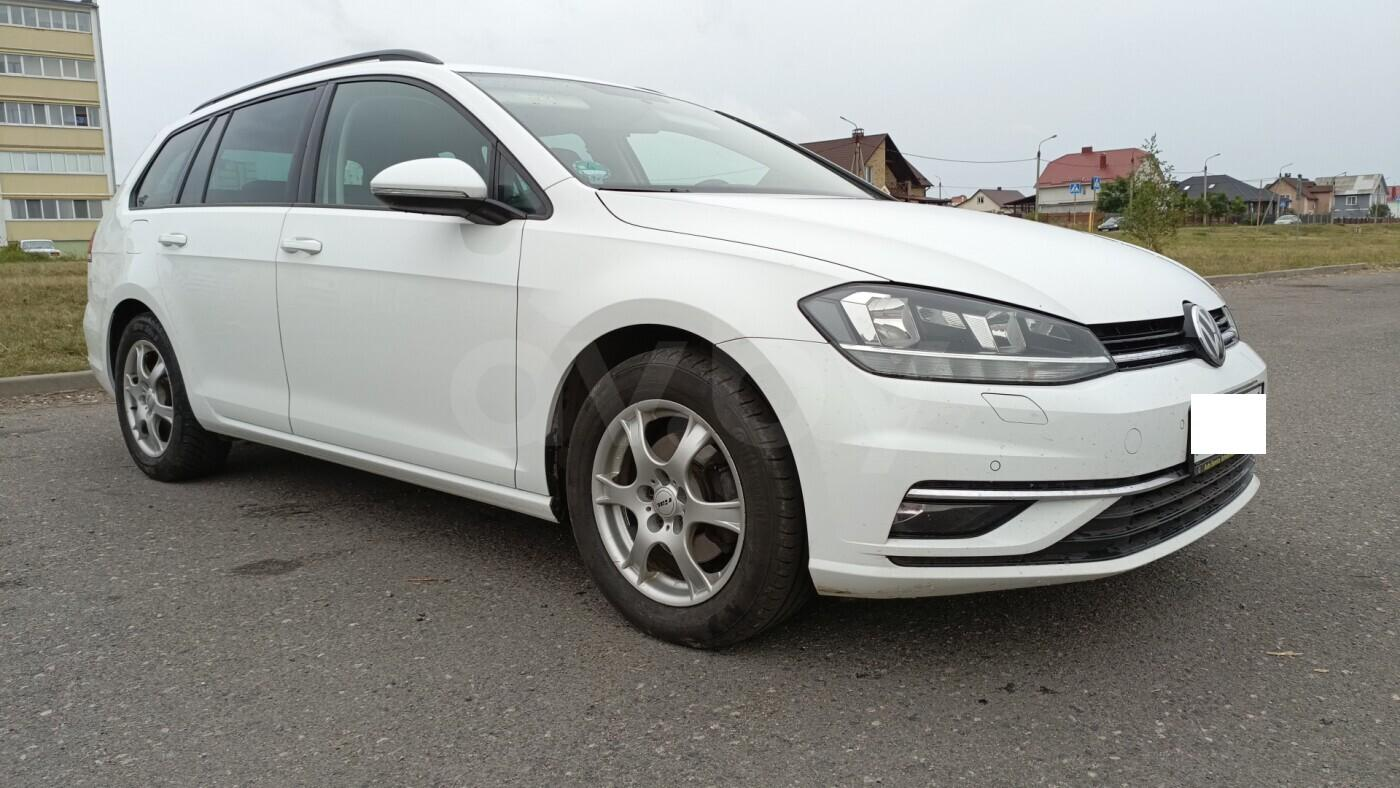Golf_2017-2021: (81, 52, 1271, 650)
